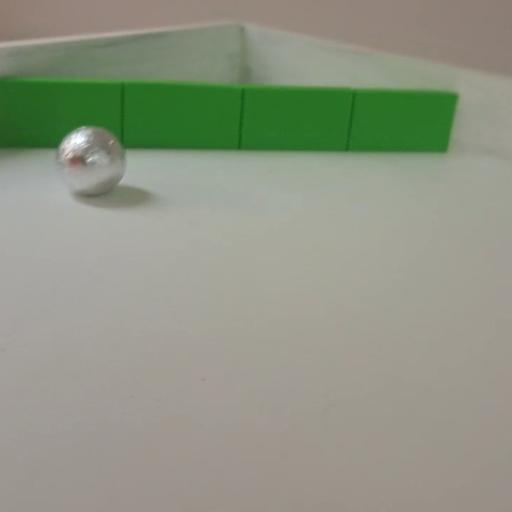alive: (56, 124, 128, 198)
